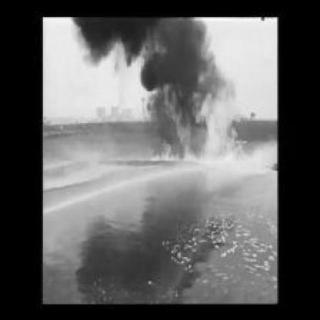Fire: (154, 78, 242, 165)
Smoke: (72, 17, 222, 81)
